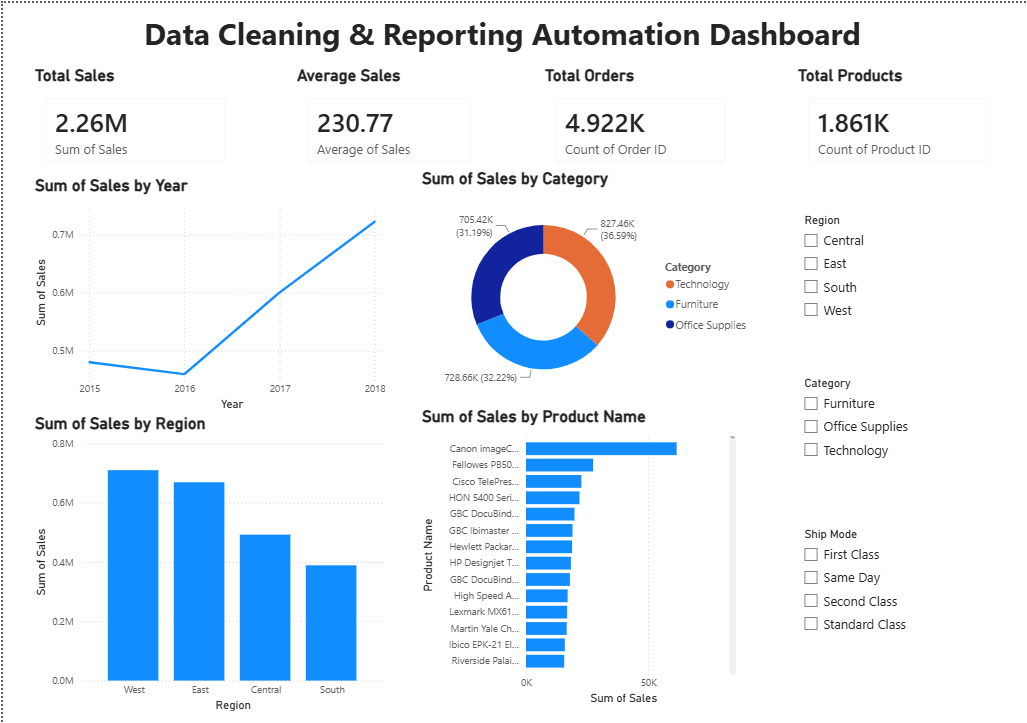

This screenshot's page, from the dashboard's own definition file:
{"tool":"powerbi","page":{"name":"Page 1","canvas":[1280,900],"ordinal":0},"visuals":[{"type":"textbox","box":[9.7,7.8,1228.4,71],"z":0},{"type":"cardVisual","title":"Total Sales","fields":{"Data":["Sum(train.Sales)"]},"box":[35,78.8,260.7,137.1],"z":1},{"type":"cardVisual","title":"Average Sales","fields":{"Data":["Avg(train.Sales)"]},"box":[362.8,78.8,240.2,137.1],"z":2},{"type":"cardVisual","title":"Total Orders","fields":{"Data":["Count(train.Order ID)"]},"box":[673.1,78.8,249,137.1],"z":3},{"type":"cardVisual","title":"Total Products","fields":{"Data":["Count(train.Product ID)"]},"box":[989.2,78.8,260.7,137.1],"z":4},{"type":"lineChart","fields":{"Category":["train.Order Date.Variation.Date Hierarchy.Year","train.Order Date.Variation.Date Hierarchy.Quarter","train.Order Date.Variation.Date Hierarchy.Month","train.Order Date.Variation.Date Hierarchy.Day"],"Y":["Sum(train.Sales)"]},"box":[35,216.2,447.5,297.5],"z":5},{"type":"clusteredColumnChart","fields":{"Category":["train.Region"],"Y":["Sum(train.Sales)"]},"box":[35,513.8,447.5,376.2],"z":6},{"type":"donutChart","fields":{"Category":["train.Category"],"Y":["Sum(train.Sales)"]},"box":[518.8,207.5,423.8,297.5],"z":7},{"type":"clusteredBarChart","fields":{"Category":["train.Product Name"],"Y":["Sum(train.Sales)"]},"box":[518.8,505,402.5,376.2],"z":8},{"type":"slicer","fields":{"Values":["train.Region"]},"box":[988.8,258.8,200,162.5],"z":9},{"type":"slicer","fields":{"Values":["train.Category"]},"box":[988.8,462.5,200,143.8],"z":10},{"type":"slicer","fields":{"Values":["train.Ship Mode"]},"box":[988.8,651.2,176.2,178.8],"z":11}]}

Visuals, with their boxes in screenshot pixels (x1, y1, x2, y2), scaled from the page's 1280x900 canvas onto the 1027x723 screenshot:
textbox: locate(8, 6, 993, 63)
"Total Sales" cardVisual: locate(28, 63, 237, 173)
"Average Sales" cardVisual: locate(291, 63, 484, 173)
"Total Orders" cardVisual: locate(540, 63, 740, 173)
"Total Products" cardVisual: locate(794, 63, 1003, 173)
lineChart - train.Order Date.Variation.Date Hierarchy.Year x train.Order Date.Variation.Date Hierarchy.Quarter: locate(28, 174, 387, 413)
clusteredColumnChart - train.Region x Sum(train.Sales): locate(28, 413, 387, 715)
donutChart - train.Category x Sum(train.Sales): locate(416, 167, 756, 406)
clusteredBarChart - train.Product Name x Sum(train.Sales): locate(416, 406, 739, 708)
slicer - train.Region: locate(793, 208, 954, 338)
slicer - train.Category: locate(793, 372, 954, 487)
slicer - train.Ship Mode: locate(793, 523, 935, 667)
